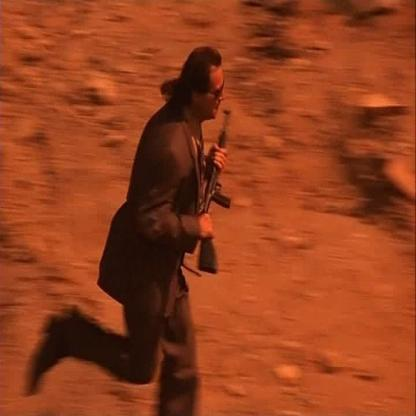gun: (193, 96, 252, 287)
